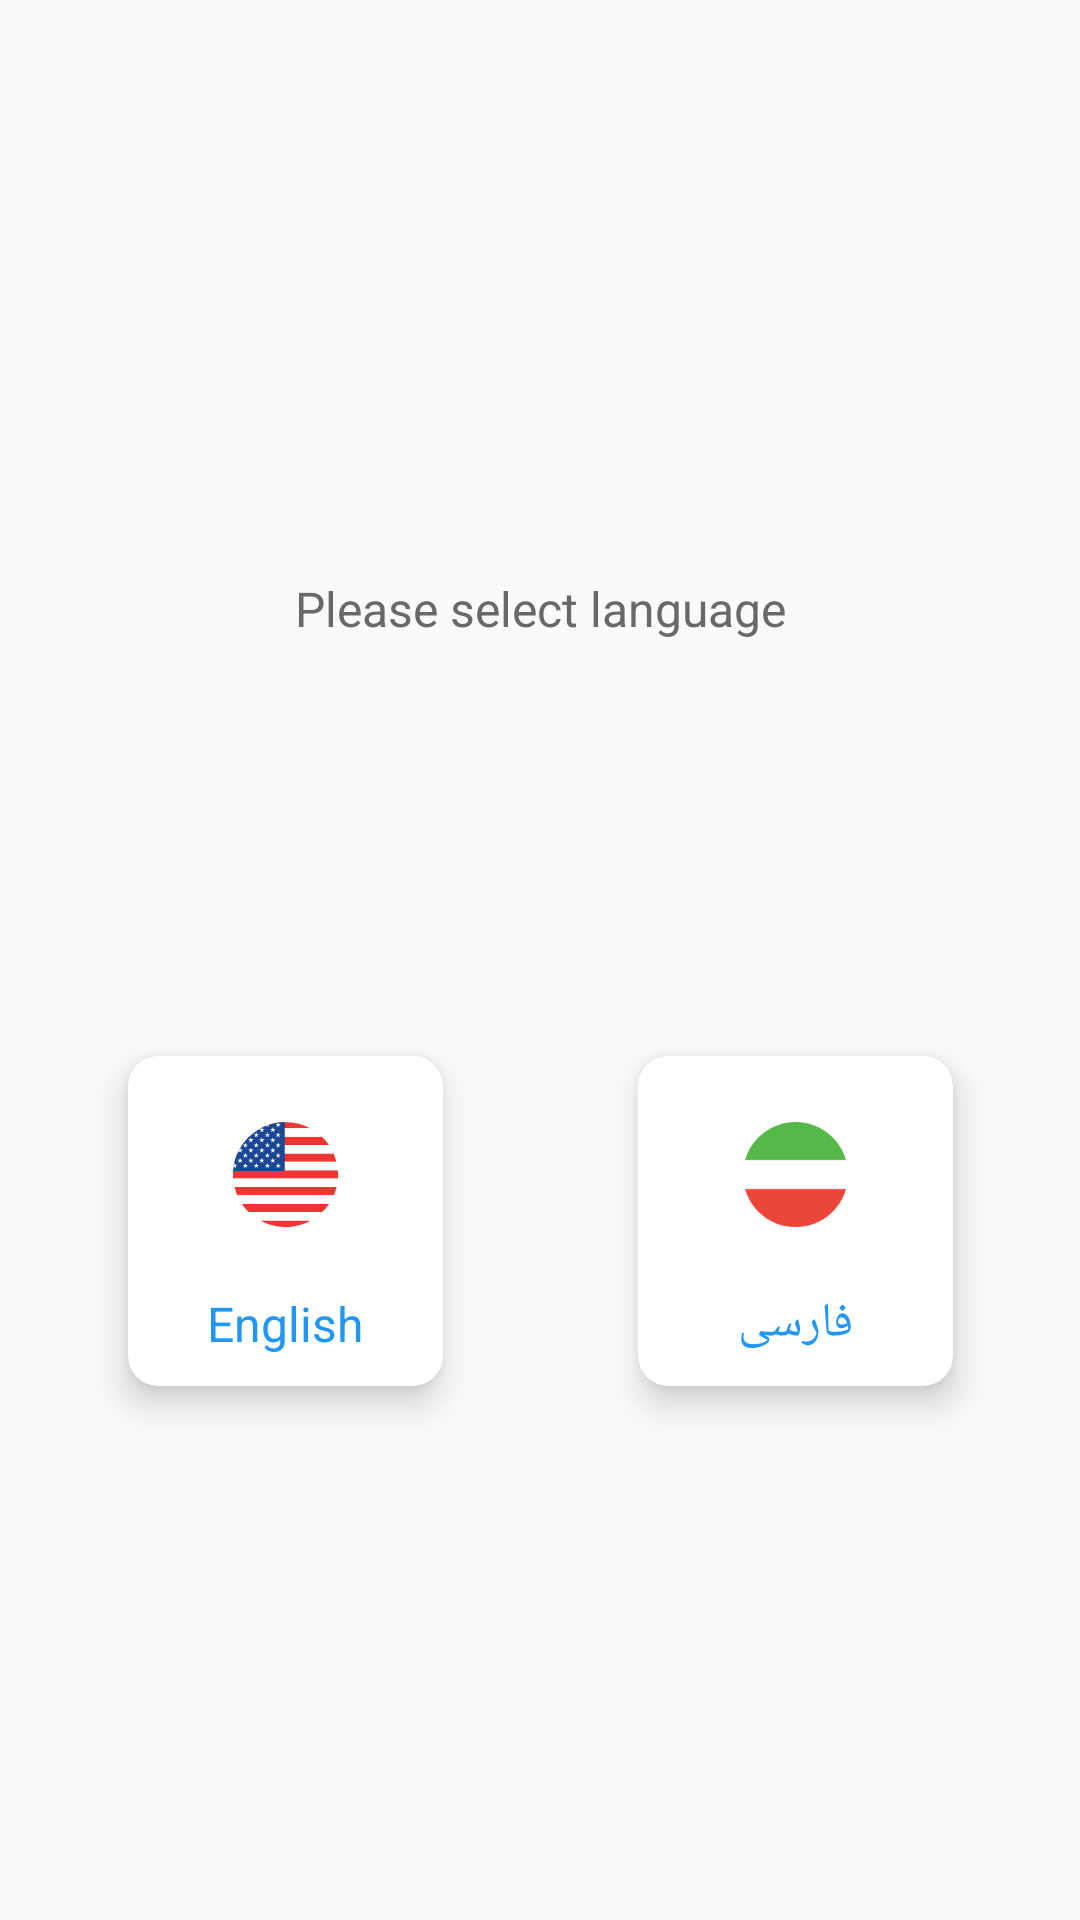

Screen size 1080x1920. Icon name, then its center in pixels as (x,y):
iran flag: (795,1174)
us flag: (285,1174)
